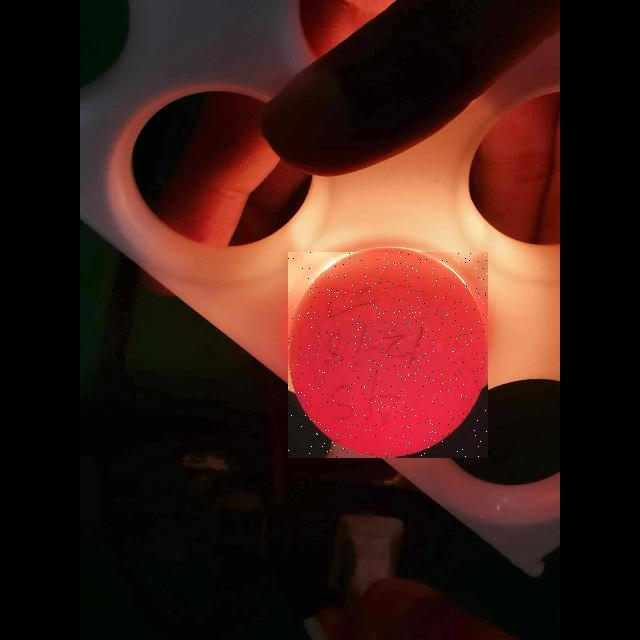Infertile: (288, 252, 488, 458)
